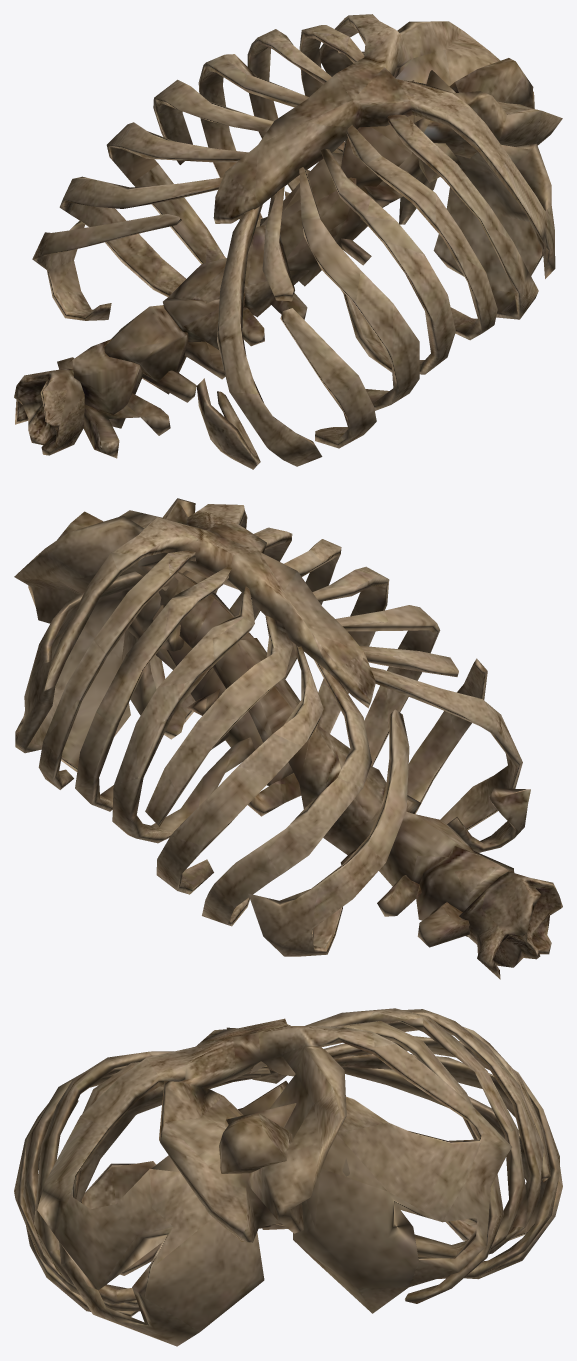
The model's file is h_ribcage.glb.
The picture shows the model from 3 angles, top to bottom: view 1: azimuth 30°, elevation 25°; view 2: azimuth 150°, elevation 25°; view 3: azimuth 270°, elevation 25°; orthographic projection. The views are drawn at different scales.
Parts seen in each view (by area): view 1: h_ribcage; view 2: h_ribcage; view 3: h_ribcage.
Part boxes in pixels (x1,y1,x2,y2): h_ribcage: (14,14,562,469); h_ribcage: (14,498,562,979); h_ribcage: (14,1008,562,1346).
Size of the model in its own units: 0.8456 by 0.5427 by 0.706.
Materials: 1 (1 with a texture image).
